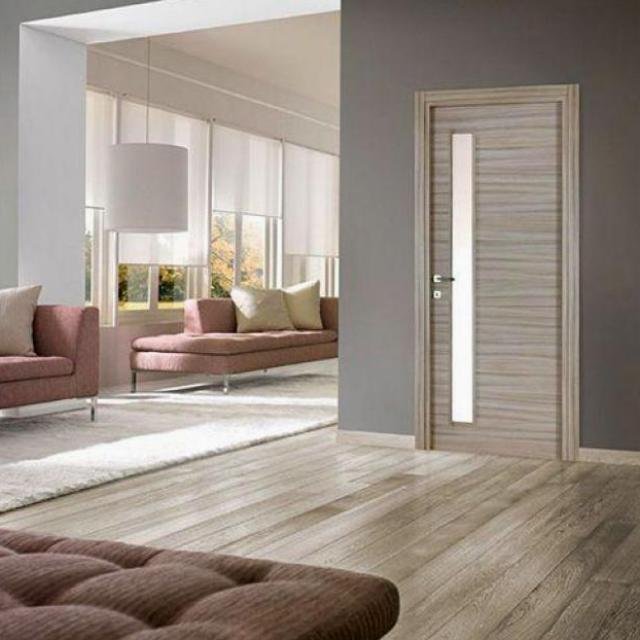door: (415, 83, 578, 461)
